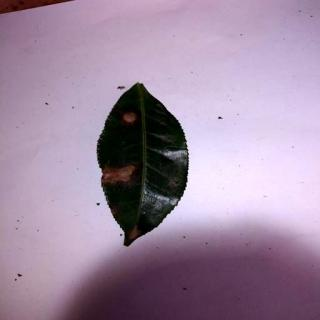Anthracnose: (99, 84, 194, 248)
